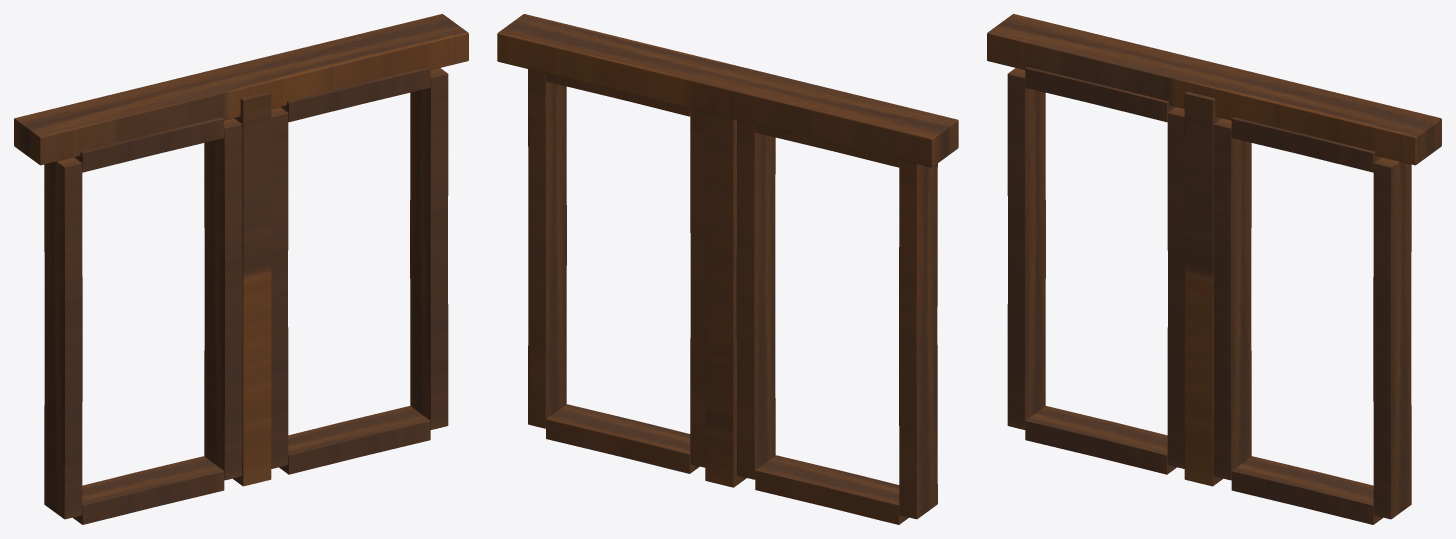
File: CM_PairedWindowBay02_FixedFrame.fbx
3 views of the same model, side by side, from view 1: azimuth 30°, elevation 25°; view 2: azimuth 150°, elevation 25°; view 3: azimuth 330°, elevation 25° (orthographic).
Parts seen in each view (by area): view 1: CM_PairedWindowBay02_FixedFrame_Geometry; view 2: CM_PairedWindowBay02_FixedFrame_Geometry; view 3: CM_PairedWindowBay02_FixedFrame_Geometry.
Part boxes in pixels (bbox=[...]): CM_PairedWindowBay02_FixedFrame_Geometry: bbox=[14, 14, 468, 524]; CM_PairedWindowBay02_FixedFrame_Geometry: bbox=[497, 14, 958, 524]; CM_PairedWindowBay02_FixedFrame_Geometry: bbox=[987, 14, 1441, 524].
Size of the model in its own units: 2.04 by 1.8 by 0.24.
